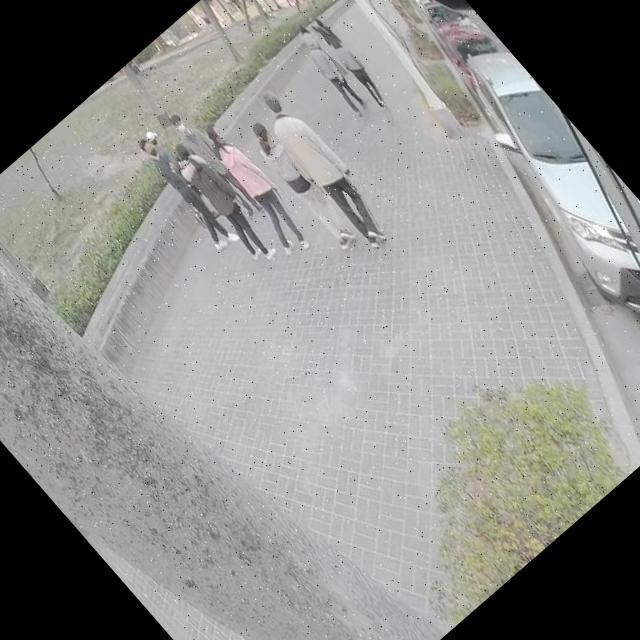person: (245, 80, 400, 250), (187, 117, 318, 260), (238, 116, 361, 252), (166, 140, 280, 266), (129, 132, 238, 252), (166, 109, 264, 218), (298, 34, 372, 116), (324, 36, 391, 108), (138, 126, 174, 164), (307, 13, 340, 48), (295, 20, 317, 43)
